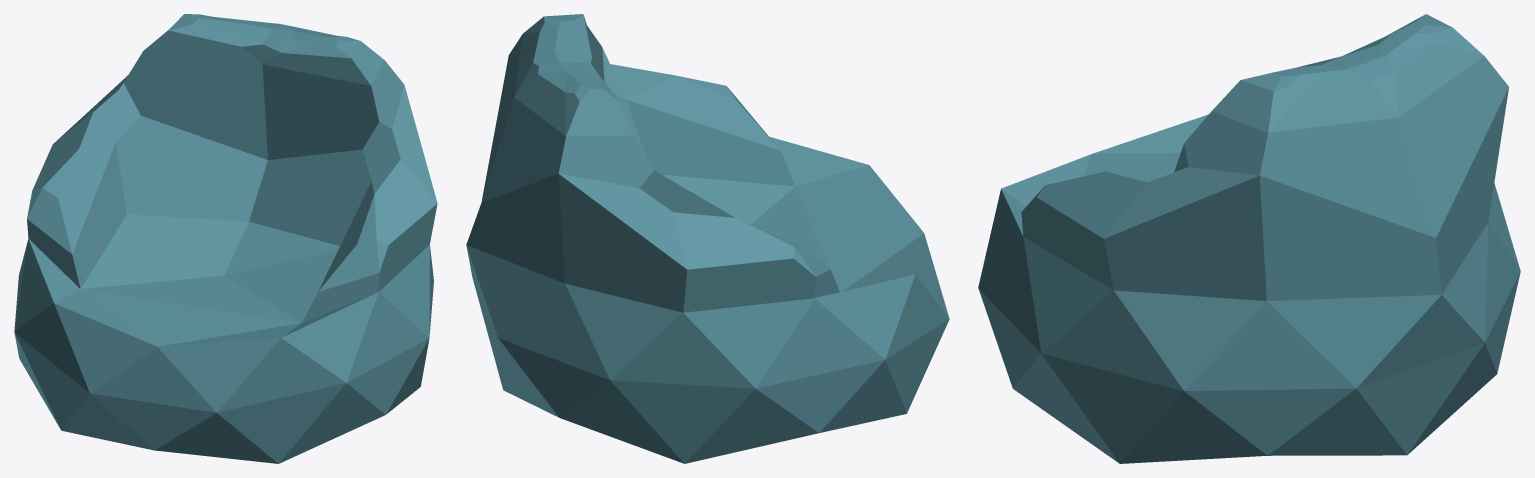
The model's file is Chair.fbx.
3 renders of one model, left to right at view 1: azimuth 30°, elevation 25°; view 2: azimuth 150°, elevation 25°; view 3: azimuth 270°, elevation 25°, orthographic. The views are drawn at different scales.
Visible parts, largest first — view 1: Icosphere; view 2: Icosphere; view 3: Icosphere.
Boxes of the visible parts, box(x1,y1,x2,y2) form: Icosphere: box(14, 14, 437, 463); Icosphere: box(466, 14, 949, 463); Icosphere: box(978, 14, 1520, 463).
Size of the model in its own units: 438 by 345 by 449.
